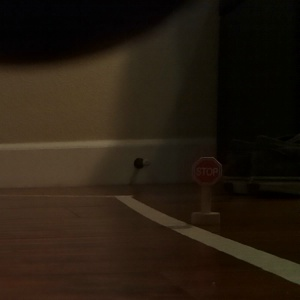stop sign: (188, 155, 224, 227)
